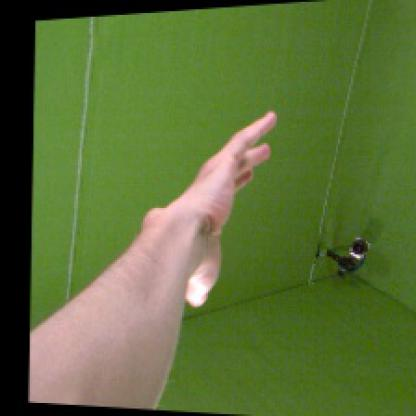Hand: (143, 112, 276, 308)
